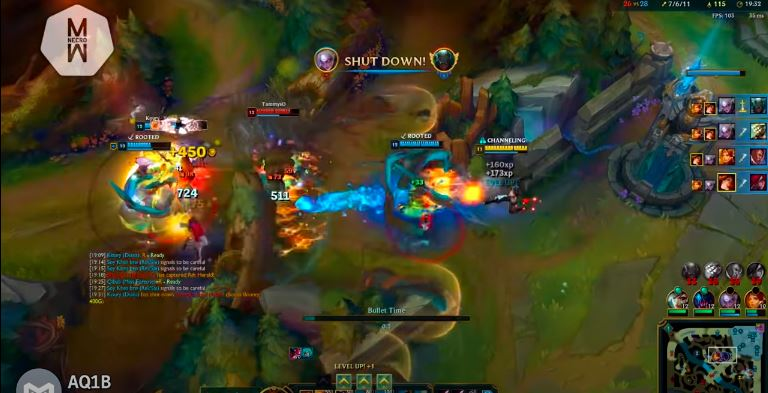bar: (474, 141, 531, 156), (112, 138, 173, 152), (388, 136, 444, 151), (243, 105, 304, 118), (132, 119, 188, 132)
